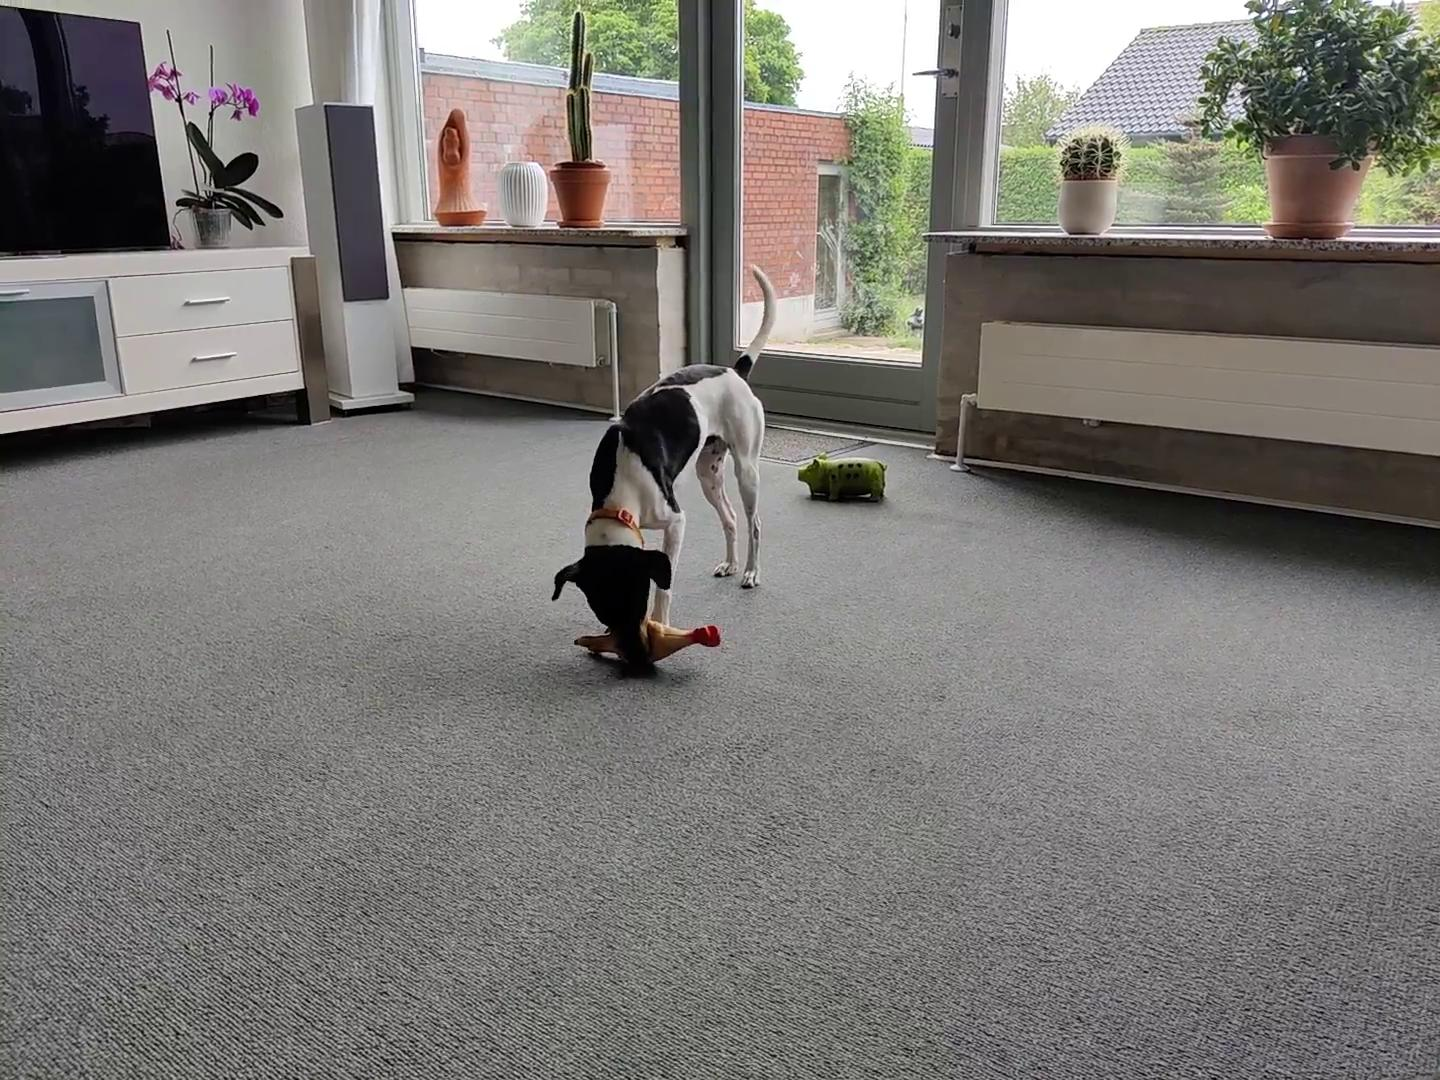Dog: (552, 261, 777, 674)
